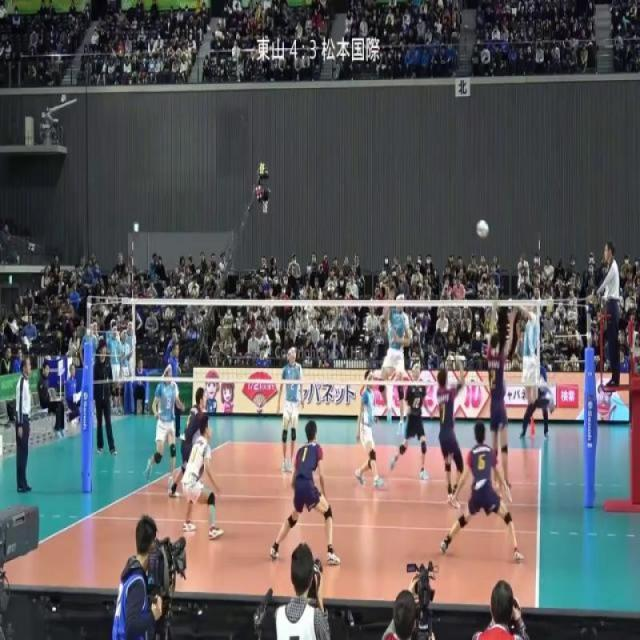volleyball: (475, 218, 490, 239)
